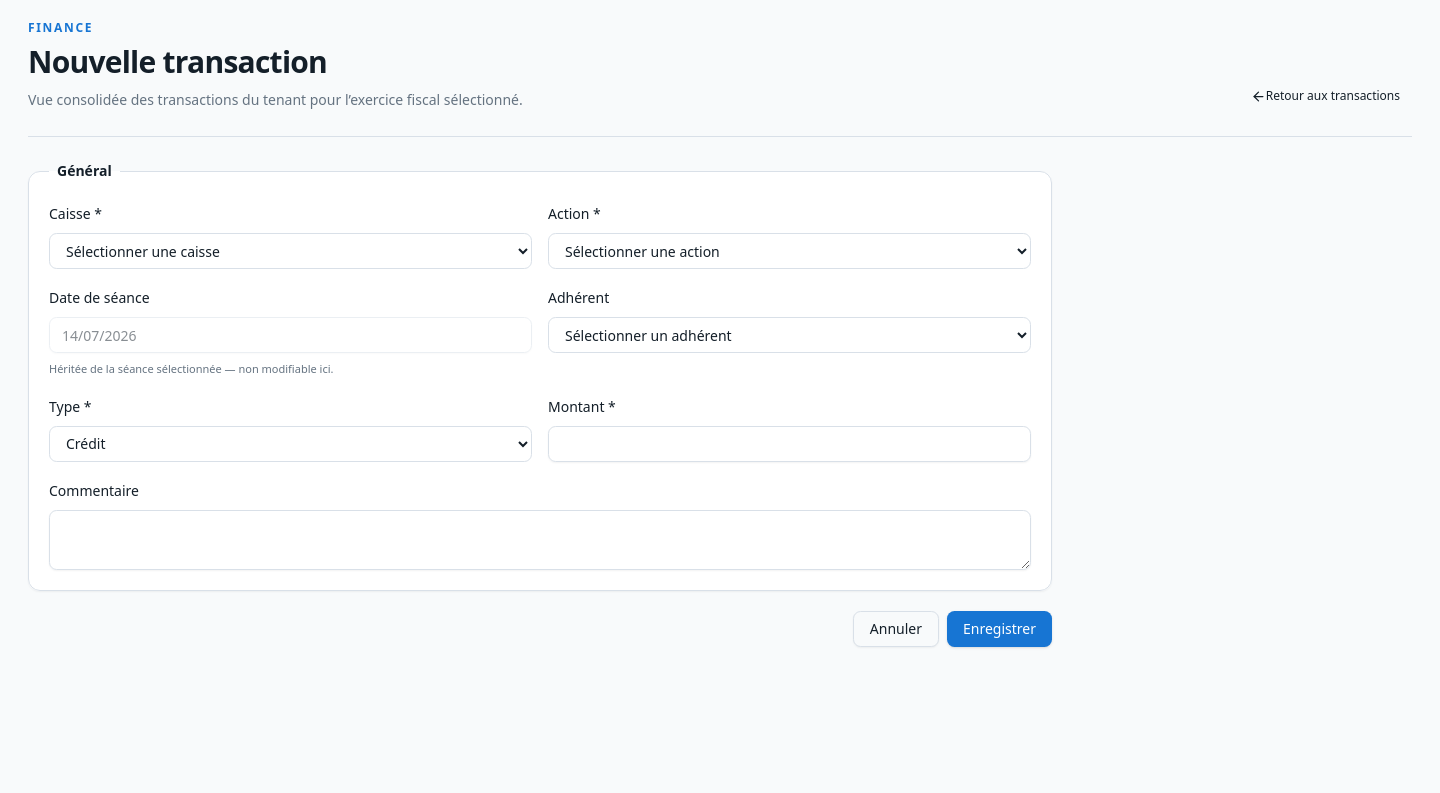
Test: Finance → Transactions — REMBOURSEMENT (détermination automatique de la dette) › un versement égal au montant dû → statut « Totalement réglé »
Select "Transport" in the dropdown labelled "Caisse *": (290, 251) [49, 233, 532, 269]
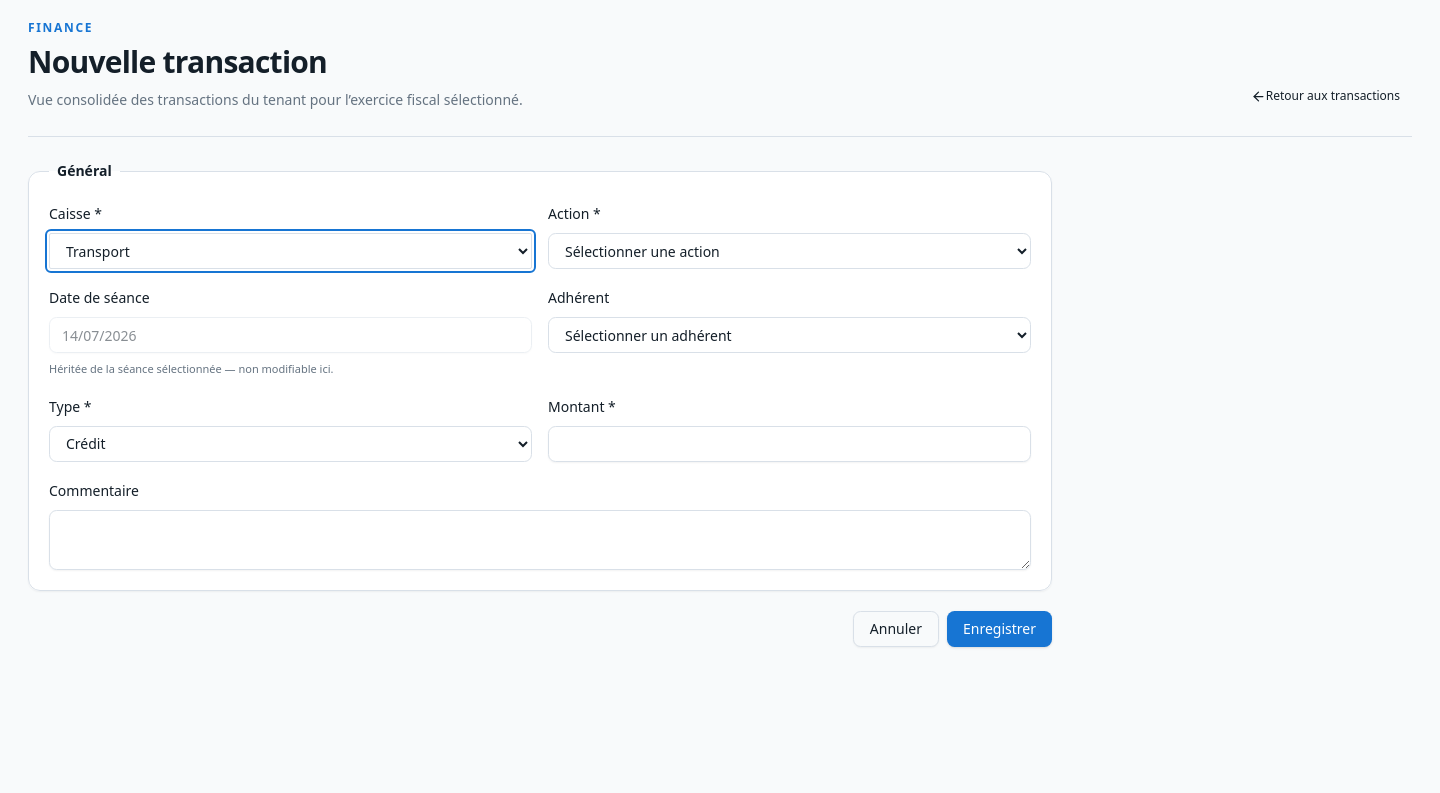
Select "Rembourser" in the dropdown labelled "Action *": (790, 251) [548, 233, 1031, 269]
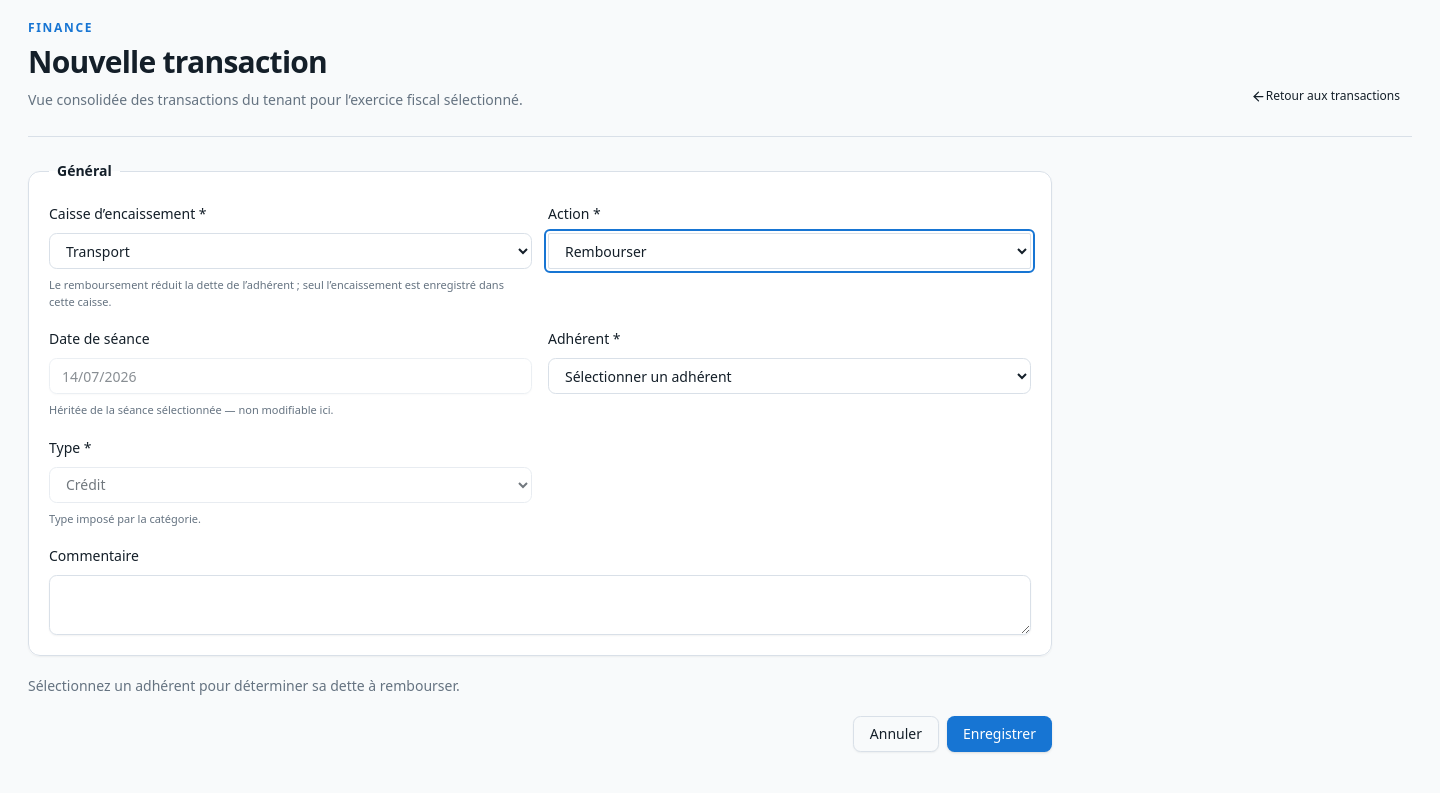
Select "Fatou Ndiaye" in the dropdown labelled "Adhérent *": (790, 376) [548, 358, 1031, 394]
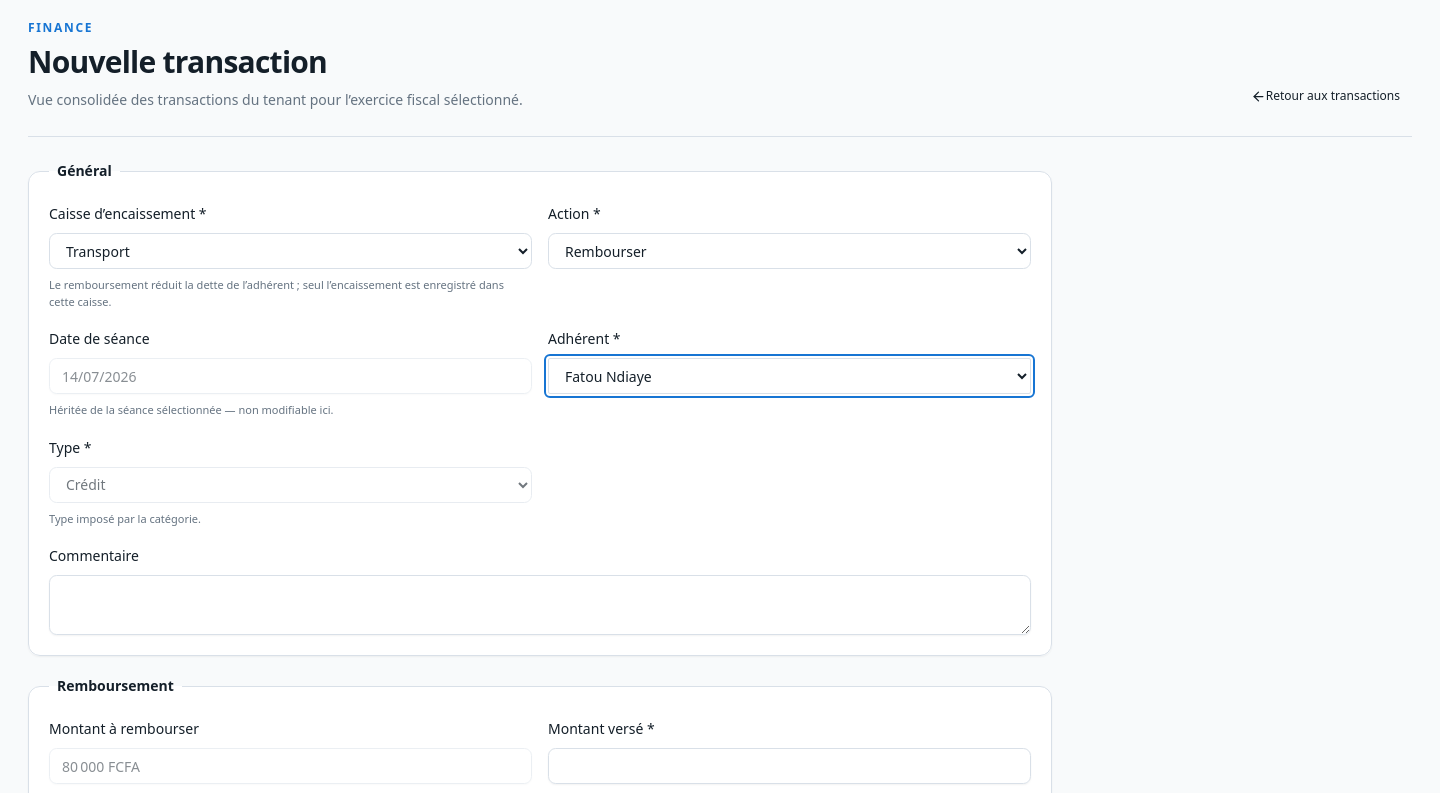
In the field labelled "Montant versé *": (790, 766) [548, 748, 1031, 784], type "80000"
(page scrolled)
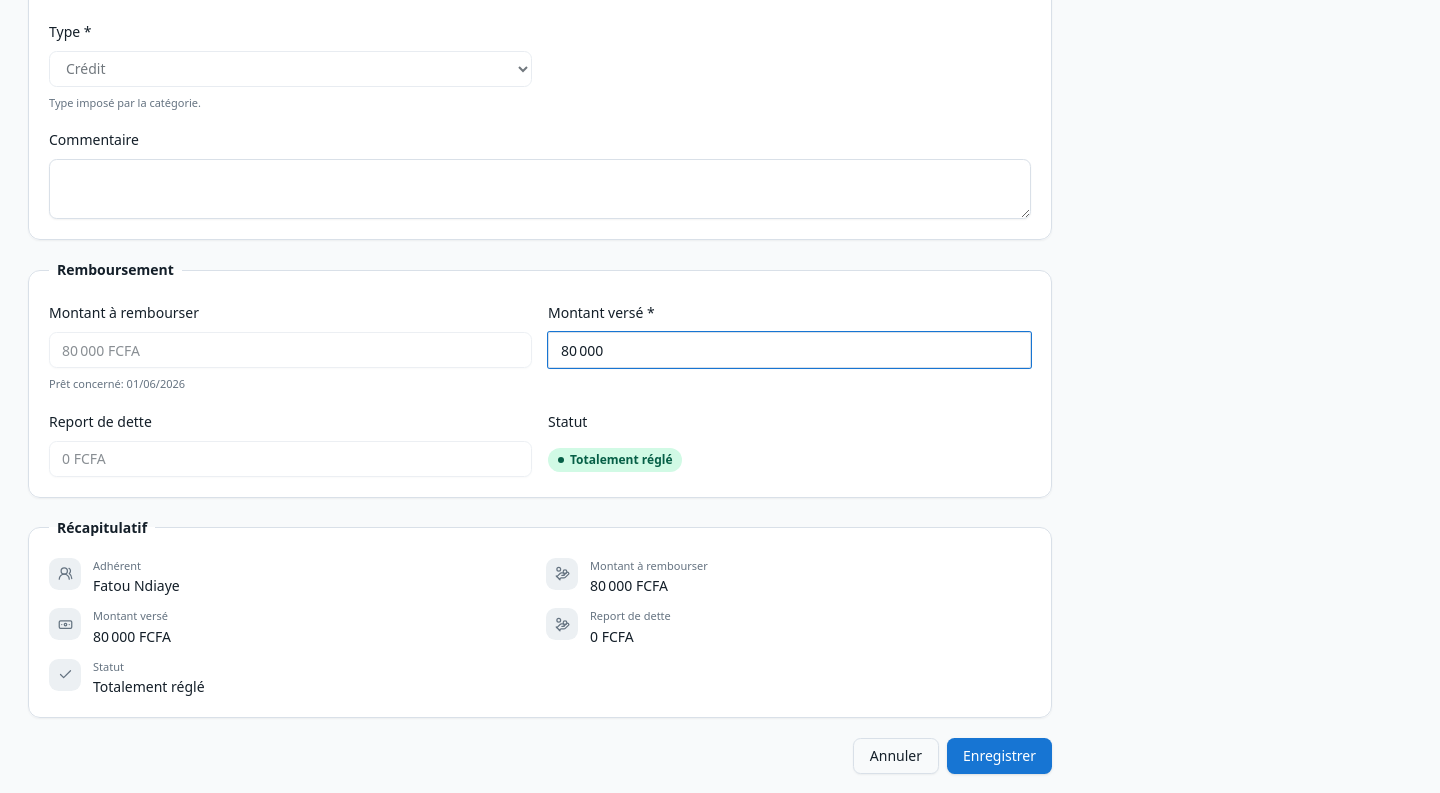
Check: the text "Totalement réglé" is shown, box [548, 448, 682, 472]
